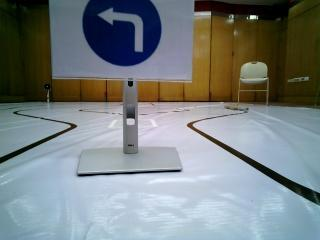left: (53, 0, 192, 83)
